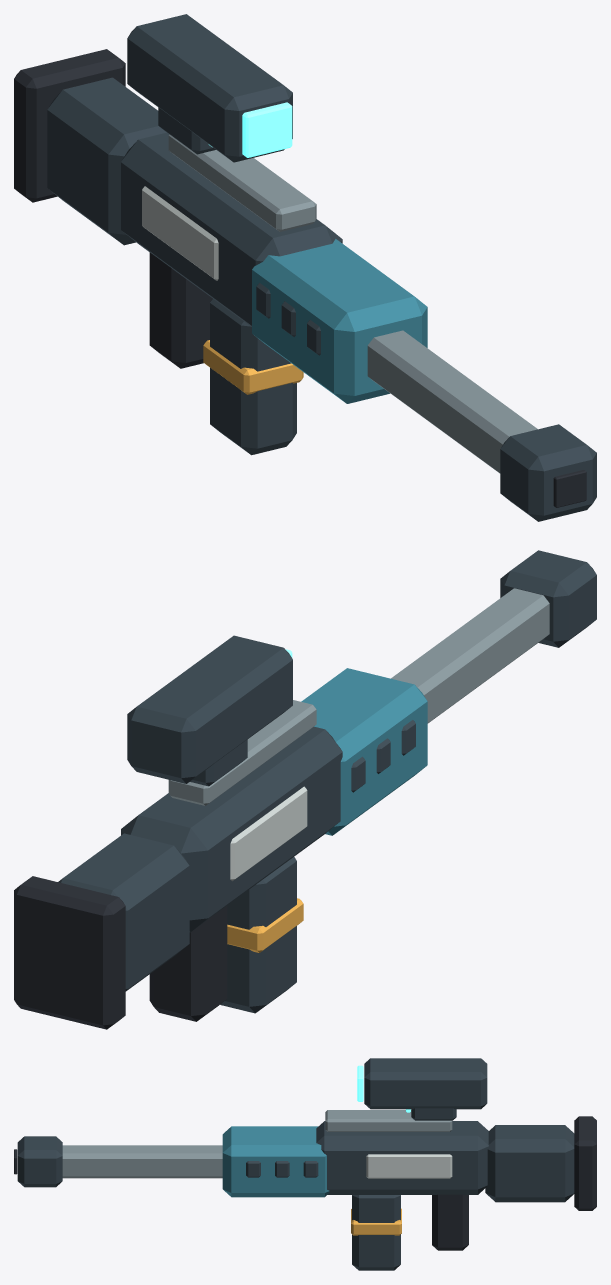
File: marksman_rifle.glb
The picture shows the model from 3 angles, top to bottom: view 1: azimuth 30°, elevation 25°; view 2: azimuth 150°, elevation 25°; view 3: azimuth 270°, elevation 25°; orthographic projection. The views are drawn at different scales.
Parts seen in each view (by area): view 1: Handguard, Receiver, Scope, Stock, Barrel, Magazine, ButtPad, MuzzleBrake, Rail, Grip, SidePanel, ScopeLens (+3 smaller); view 2: Receiver, Scope, ButtPad, Handguard, Stock, Barrel, Magazine, Grip, MuzzleBrake, Rail, SidePanel, MagazineStripe (+1 smaller); view 3: Receiver, Stock, Handguard, Scope, Barrel, Magazine, Rail, MuzzleBrake, SidePanel, ButtPad, Grip, MagazineStripe (+1 smaller).
Part boxes in pixels (box(x1,y1,x2,y2)): Handguard: box(252, 239, 427, 403); Receiver: box(121, 132, 342, 326); Scope: box(127, 14, 292, 162); Stock: box(47, 77, 166, 245); Barrel: box(367, 330, 537, 473); Magazine: box(210, 298, 296, 455); ButtPad: box(14, 49, 125, 202); MuzzleBrake: box(500, 424, 596, 521); Rail: box(168, 134, 316, 231); Grip: box(149, 252, 212, 368); SidePanel: box(142, 186, 218, 280); ScopeLens: box(242, 102, 292, 157); Receiver: box(121, 726, 342, 932); Scope: box(127, 635, 292, 783); ButtPad: box(14, 876, 125, 1029); Handguard: box(301, 668, 427, 835); Stock: box(58, 833, 189, 991); Barrel: box(391, 588, 549, 723); Magazine: box(220, 857, 296, 1013); Grip: box(149, 906, 227, 1021); MuzzleBrake: box(500, 550, 596, 647); Rail: box(168, 700, 316, 805); SidePanel: box(230, 786, 307, 881); MagazineStripe: box(227, 898, 303, 952); Receiver: box(316, 1121, 488, 1194); Stock: box(485, 1125, 574, 1202); Handguard: box(222, 1126, 329, 1197); Scope: box(364, 1058, 487, 1109); Barrel: box(62, 1145, 222, 1178); Magazine: box(352, 1195, 400, 1270); Rail: box(325, 1110, 452, 1131); MuzzleBrake: box(17, 1136, 62, 1187); SidePanel: box(366, 1154, 452, 1178); ButtPad: box(574, 1116, 596, 1210); Grip: box(432, 1194, 468, 1250); MagazineStripe: box(351, 1208, 401, 1235).
Bounding box in the file's own units: 0.16 × 0.54 × 1.42.
